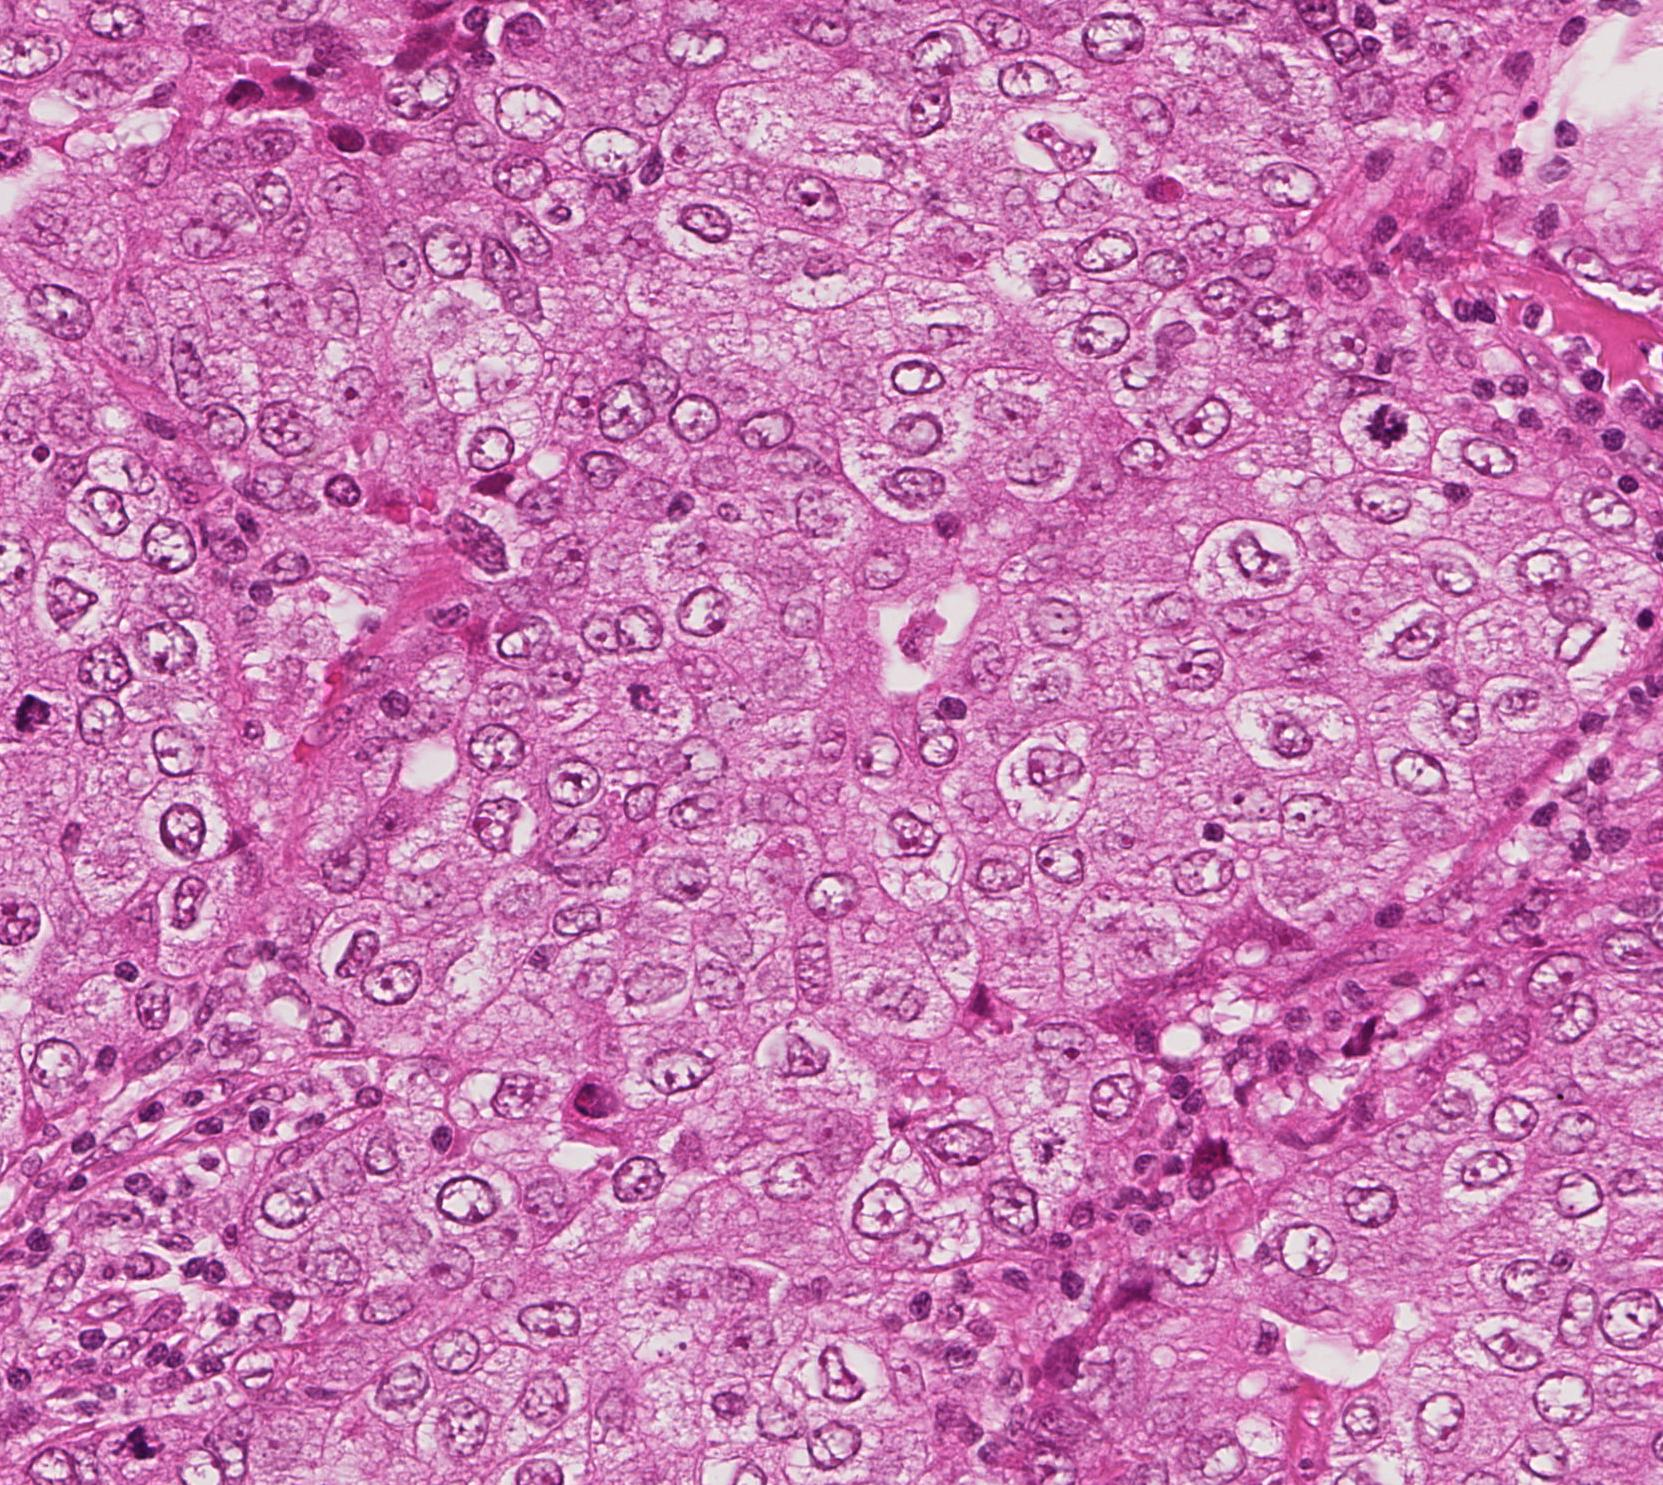mitosis: (4, 679, 65, 740), (1353, 391, 1414, 452), (108, 1413, 168, 1474), (624, 672, 682, 732)
